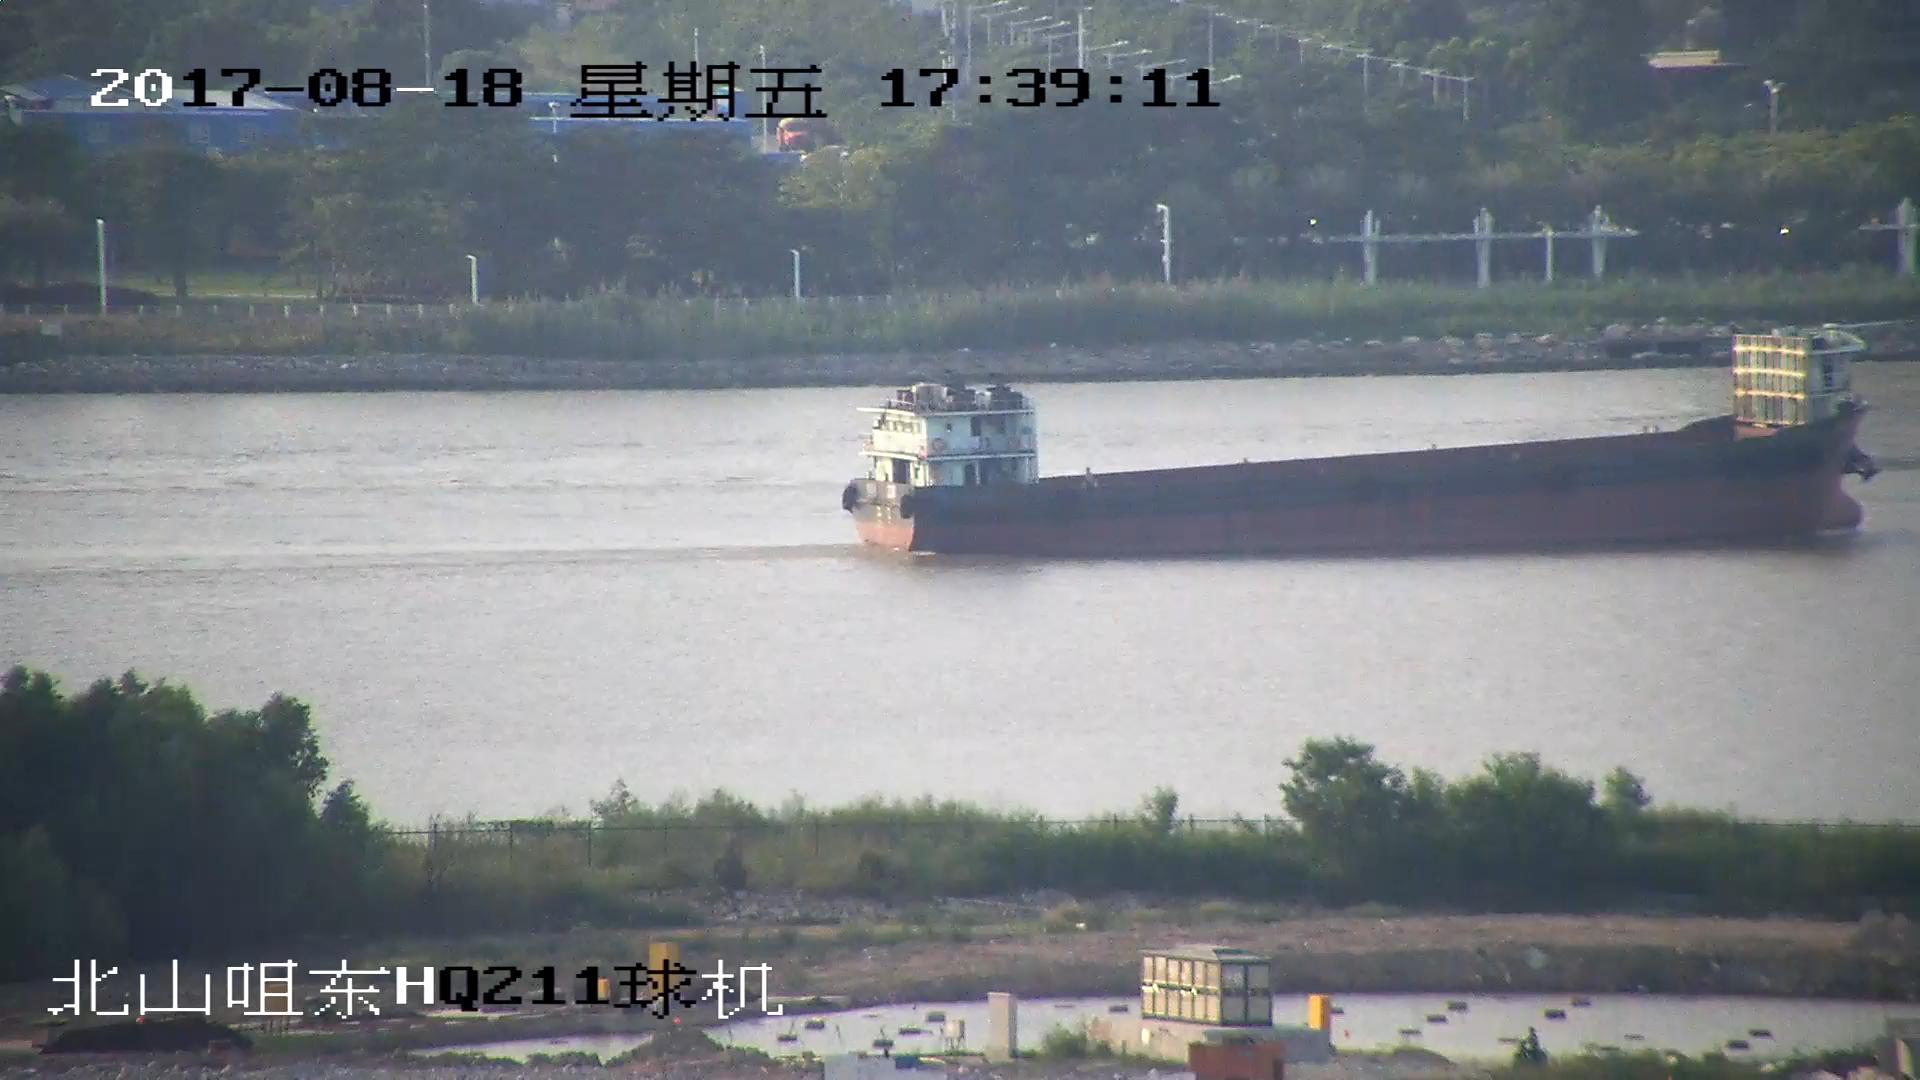Ship: (837, 328, 1855, 555)
